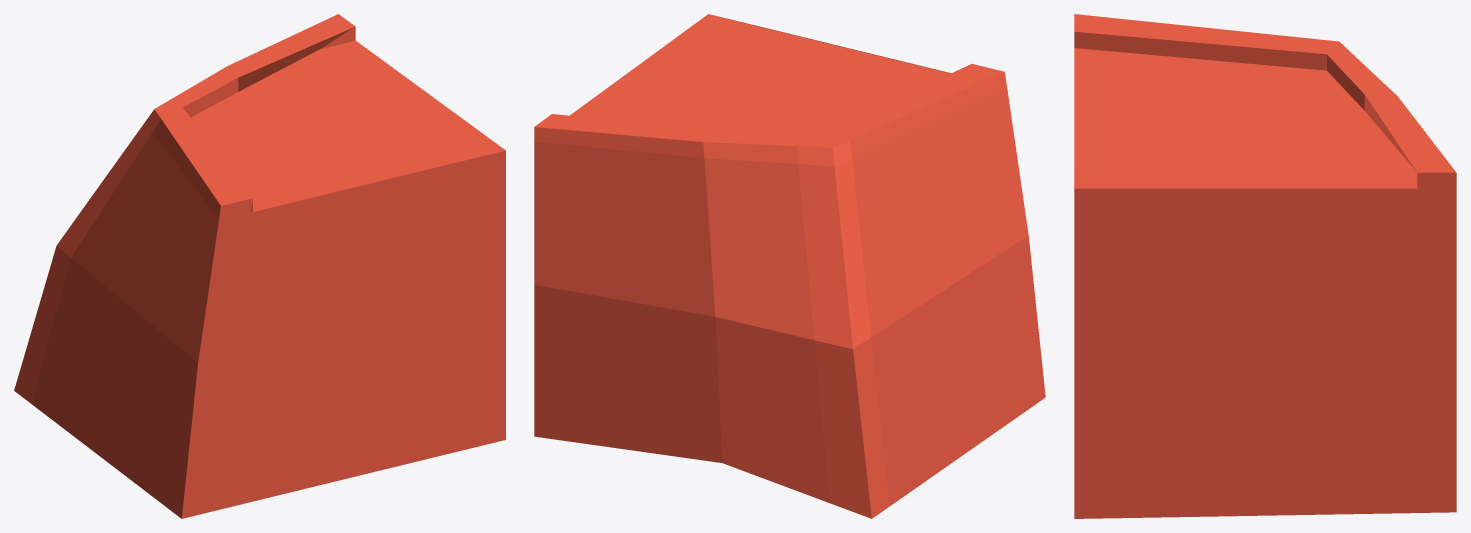
File: Roof Corner.fbx
3 renders of one model, left to right at view 1: azimuth 30°, elevation 25°; view 2: azimuth 150°, elevation 25°; view 3: azimuth 270°, elevation 25°, orthographic. The views are drawn at different scales.
Parts seen in each view (by area): view 1: Roof Corner; view 2: Roof Corner; view 3: Roof Corner.
Boxes of the visible parts, x1,y1,x2,y2 form: Roof Corner: [14, 14, 505, 518]; Roof Corner: [534, 14, 1045, 518]; Roof Corner: [1074, 14, 1456, 518].
Bounding box in the file's own units: 224 × 200 × 200.
